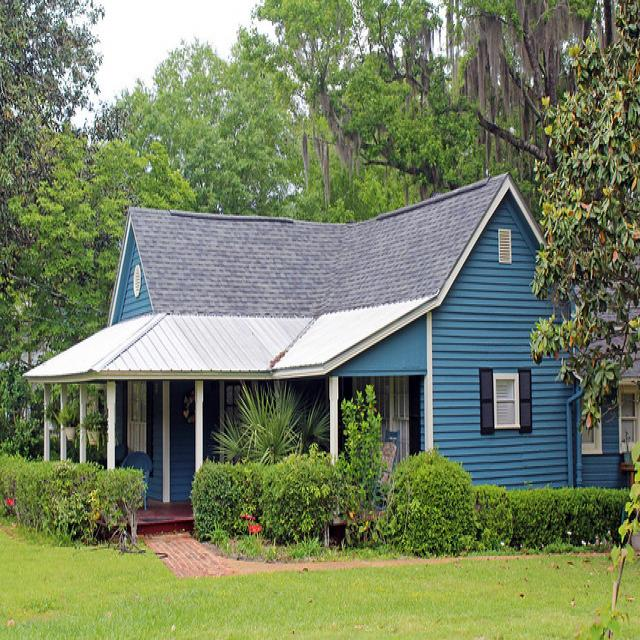Normal_building: (21, 170, 632, 554)
